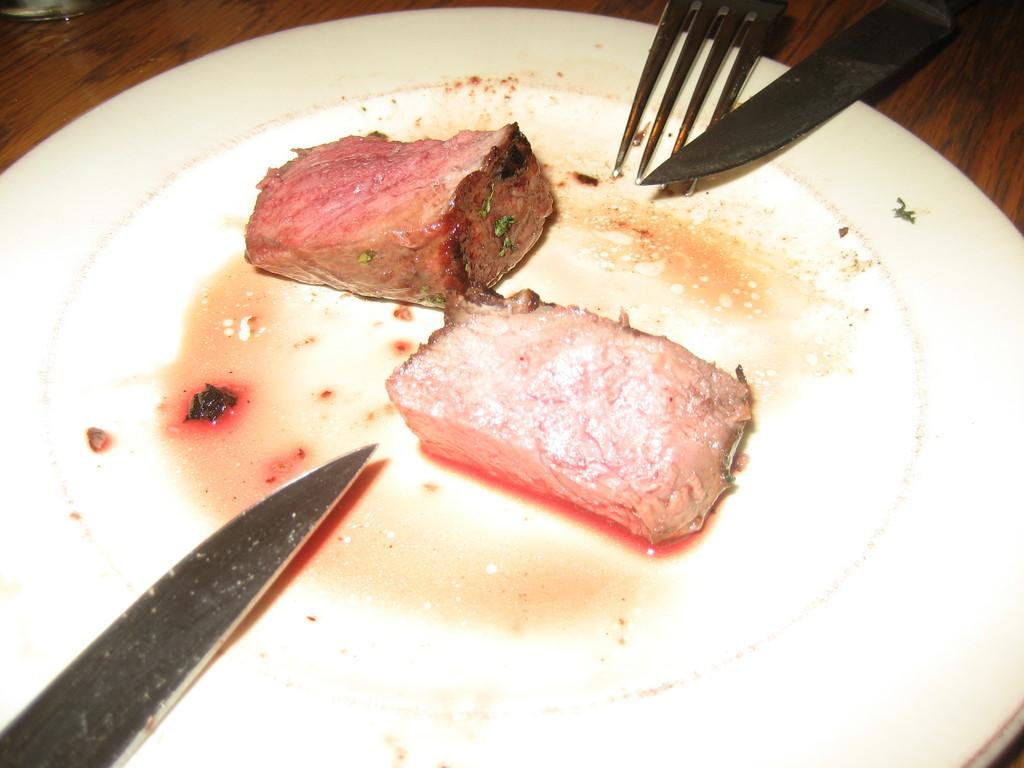Knife: (0, 443, 382, 767), (639, 0, 985, 185)
